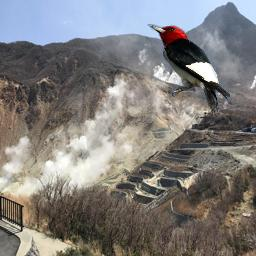Woodpecker: (146, 24, 233, 119)
